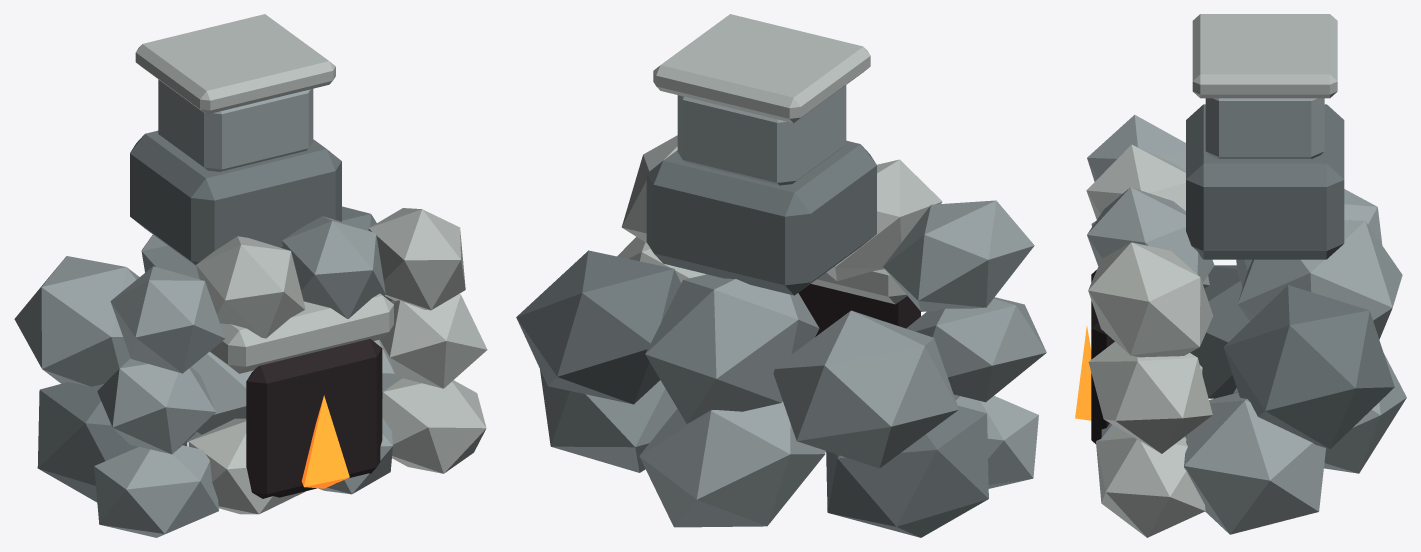
File: station_stone_furnace.glb
3 renders of one model, left to right at view 1: azimuth 30°, elevation 25°; view 2: azimuth 150°, elevation 25°; view 3: azimuth 270°, elevation 25°, orthographic. The views are drawn at different scales.
Parts seen in each view (by area): view 1: Chimney_Base, Fire_Mouth, Chimney_Lip, Body_Stone_3, Chimney_Top, Front_Stone_1, Front_Stone_7, Front_Stone_5, Front_Stone_4, Front_Stone_8, Front_Stone_10, Front_Stone_9 (+9 smaller); view 2: Chimney_Base, Body_Stone_3, Body_Stone_6, Body_Stone_4, Body_Stone_5, Chimney_Lip, Body_Stone_1, Front_Stone_7, Chimney_Top, Front_Stone_5, Body_Stone_2, Front_Stone_8 (+5 smaller); view 3: Body_Stone_4, Chimney_Base, Body_Stone_2, Chimney_Lip, Front_Stone_10, Front_Stone_6, Body_Stone_6, Front_Stone_4, Chimney_Top, Front_Stone_9, Body_Stone_1, Front_Stone_8 (+5 smaller).
Boxes of the visible parts, x1=… form: Chimney_Base: x1=130, y1=130, x2=341, y2=265; Fire_Mouth: x1=246, y1=339, x2=382, y2=498; Chimney_Lip: x1=135, y1=14, x2=335, y2=114; Body_Stone_3: x1=14, y1=256, x2=139, y2=386; Chimney_Top: x1=158, y1=79, x2=313, y2=171; Front_Stone_1: x1=94, y1=445, x2=218, y2=537; Front_Stone_7: x1=110, y1=266, x2=225, y2=373; Front_Stone_5: x1=97, y1=358, x2=215, y2=454; Front_Stone_4: x1=382, y1=378, x2=486, y2=473; Front_Stone_8: x1=196, y1=236, x2=305, y2=338; Front_Stone_10: x1=368, y1=208, x2=465, y2=310; Front_Stone_9: x1=282, y1=216, x2=385, y2=318; Chimney_Base: x1=646, y1=140, x2=876, y2=295; Body_Stone_3: x1=773, y1=310, x2=958, y2=468; Body_Stone_6: x1=645, y1=274, x2=819, y2=423; Body_Stone_4: x1=516, y1=250, x2=680, y2=404; Body_Stone_5: x1=639, y1=401, x2=825, y2=527; Chimney_Lip: x1=653, y1=14, x2=870, y2=123; Body_Stone_1: x1=826, y1=405, x2=988, y2=537; Front_Stone_7: x1=883, y1=200, x2=1034, y2=311; Chimney_Top: x1=677, y1=85, x2=846, y2=185; Front_Stone_5: x1=906, y1=297, x2=1046, y2=402; Body_Stone_2: x1=540, y1=369, x2=677, y2=472; Front_Stone_8: x1=826, y1=159, x2=942, y2=281; Body_Stone_4: x1=1223, y1=285, x2=1394, y2=449; Chimney_Base: x1=1186, y1=104, x2=1344, y2=259; Body_Stone_2: x1=1184, y1=392, x2=1325, y2=534; Chimney_Lip: x1=1192, y1=14, x2=1337, y2=98; Front_Stone_10: x1=1088, y1=242, x2=1213, y2=357; Front_Stone_6: x1=1088, y1=342, x2=1212, y2=453; Body_Stone_6: x1=1238, y1=220, x2=1402, y2=339; Front_Stone_4: x1=1096, y1=430, x2=1205, y2=537; Chimney_Top: x1=1205, y1=98, x2=1324, y2=158; Front_Stone_9: x1=1087, y1=187, x2=1214, y2=282; Body_Stone_1: x1=1190, y1=265, x2=1249, y2=398; Front_Stone_8: x1=1086, y1=144, x2=1185, y2=219.
Size of the model in its own units: 2.15 by 2.09 by 1.51.
